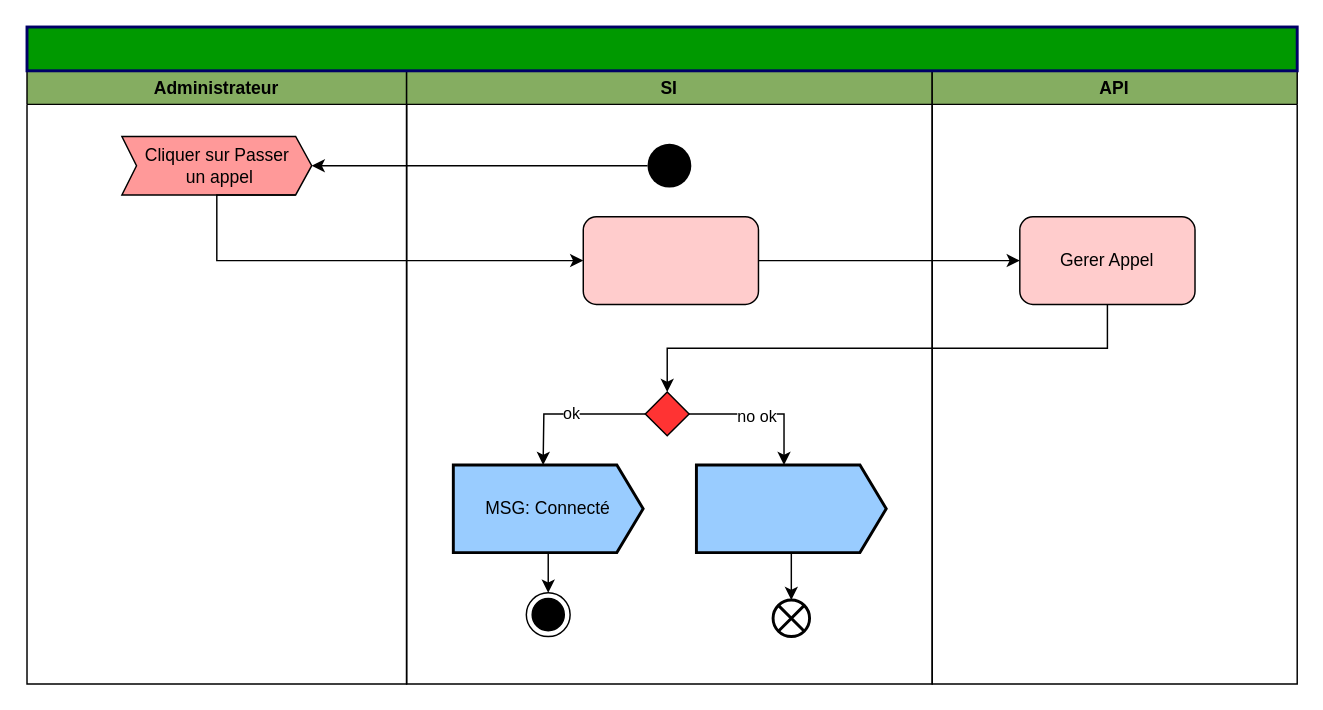
This 1323x710 diagram has some shape labels left out. The centre of each missing label's shape, as x and y in pixels:
"Envoyer informations" goes at (670,259).
"MSG: L'appel n'a pas pu être passer" goes at (790,508).
"Passer un appel" goes at (661,48).
